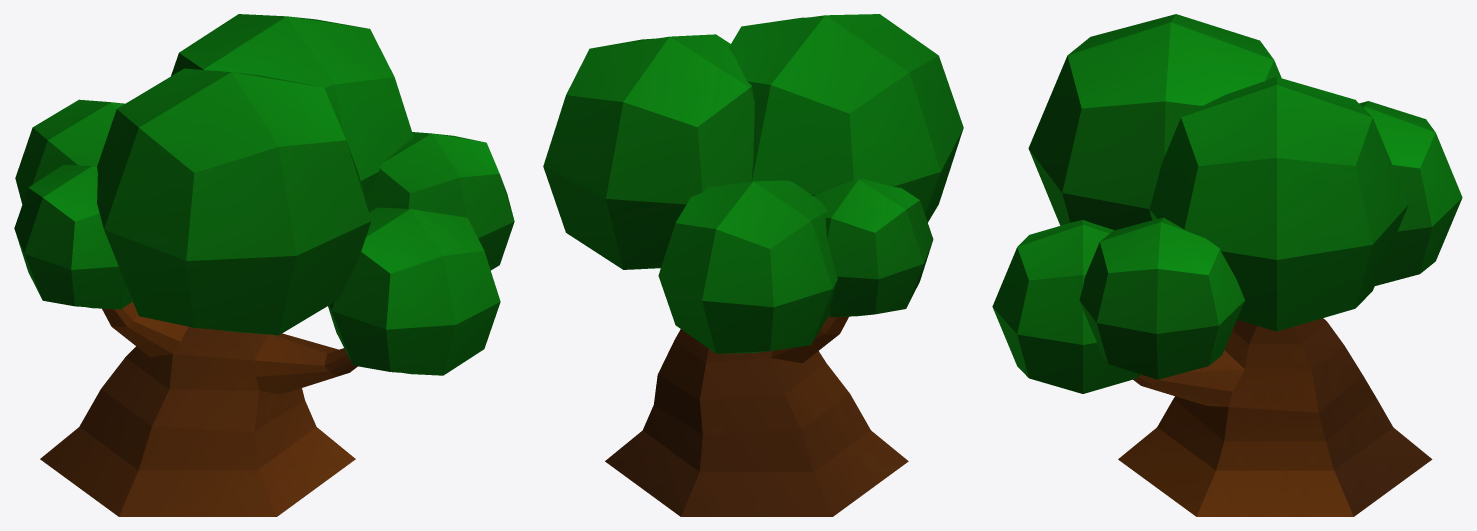
Rendered from Prop_tree_forest_01.fbx.
The picture shows the model from 3 angles, left to right: view 1: azimuth 30°, elevation 25°; view 2: azimuth 150°, elevation 25°; view 3: azimuth 270°, elevation 25°; orthographic projection. The views are drawn at different scales.
Parts seen in each view (by area): view 1: Cube; view 2: Cube; view 3: Cube.
Part boxes in pixels (x1=…): Cube: x1=14, y1=14, x2=514, y2=516; Cube: x1=543, y1=14, x2=963, y2=516; Cube: x1=992, y1=14, x2=1462, y2=516.
Size of the model in its own units: 689 by 668 by 665.
